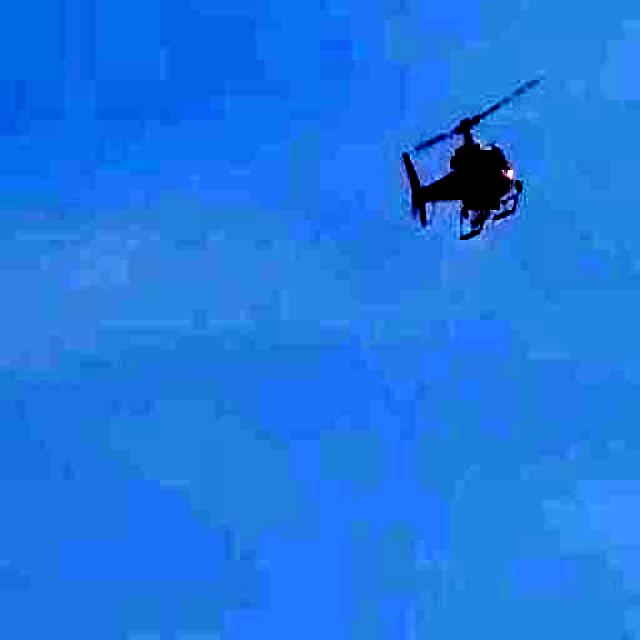drone: (354, 41, 560, 271)
